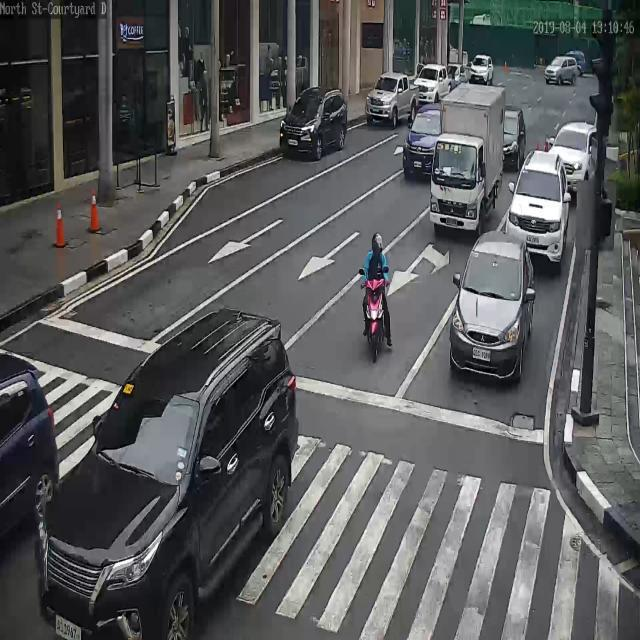car: (37, 306, 298, 640), (452, 219, 534, 386), (0, 352, 58, 549), (506, 153, 570, 266), (280, 86, 350, 161), (547, 123, 600, 192), (403, 104, 442, 183), (366, 73, 417, 128), (414, 64, 458, 102), (504, 105, 527, 166), (414, 81, 445, 115), (544, 58, 577, 85), (469, 54, 497, 83), (562, 51, 587, 75)
motorcycle: (358, 234, 395, 363)
truck: (424, 84, 507, 238)
